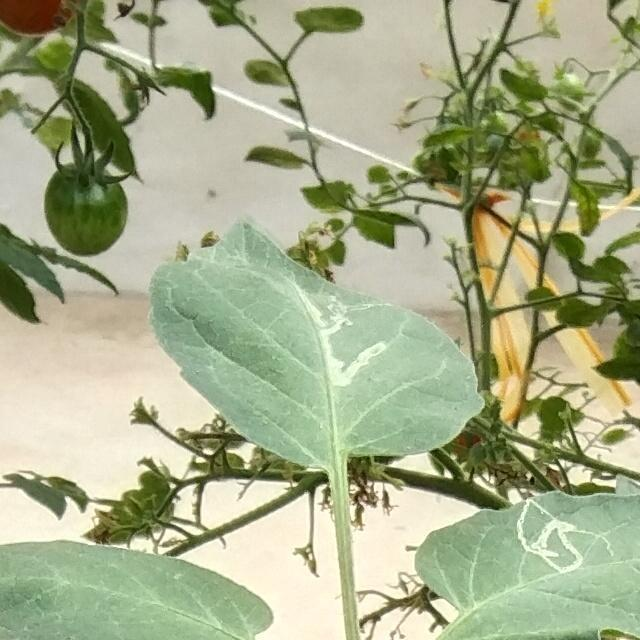Healthy: (0, 536, 274, 640)
Leaf_Miner: (145, 215, 492, 475), (413, 483, 640, 640)
